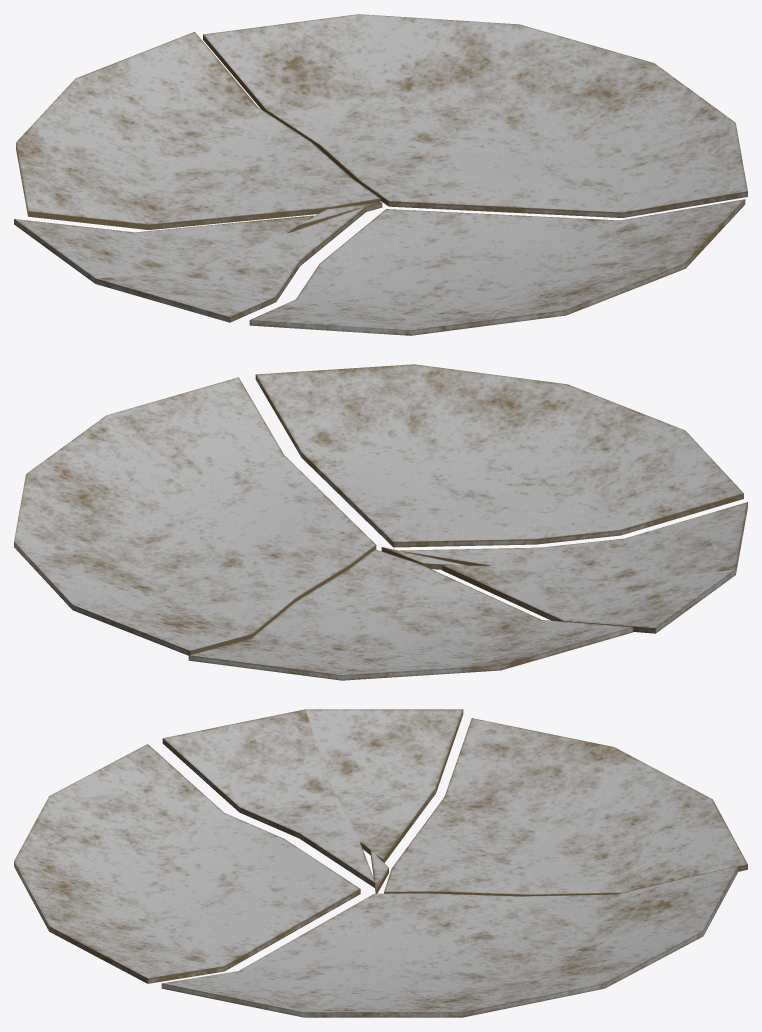
File: BrokenPlate.fbx
3 views of the same model, one above another, from view 1: azimuth 30°, elevation 25°; view 2: azimuth 150°, elevation 25°; view 3: azimuth 270°, elevation 25° (orthographic). The views are drawn at different scales.
Parts seen in each view (by area): view 1: Circle.002, Circle.003, Circle.001, Circle.004, Circle.005; view 2: Circle.002, Circle.001, Circle.003, Circle.004, Circle.005; view 3: Circle.001, Circle.002, Circle.003, Circle.004.
Part boxes in pixels (x1,y1,x2,y2): Circle.002: (203, 14, 747, 217); Circle.003: (16, 32, 380, 229); Circle.001: (249, 199, 745, 335); Circle.004: (14, 207, 366, 322); Circle.005: (297, 202, 382, 228); Circle.002: (14, 377, 376, 655); Circle.001: (255, 364, 743, 547); Circle.003: (188, 549, 633, 680); Circle.004: (399, 502, 747, 633); Circle.005: (381, 547, 467, 569); Circle.001: (14, 744, 360, 983); Circle.002: (161, 866, 738, 1017); Circle.003: (384, 718, 747, 896); Circle.004: (162, 709, 463, 887).
Size of the model in its own units: 24.56 by 1.27 by 25.14.
